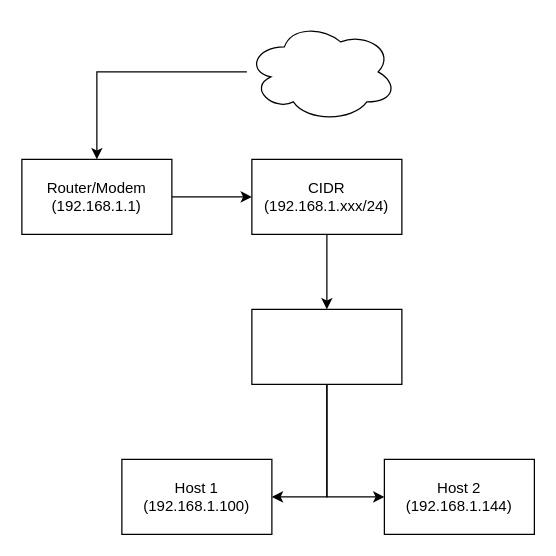
The diagram is 556 pixels wide and 556 high, and some of its shapes have lost their labels. The centre of each missing label's shape, as x and y in pixels:
"Internet" goes at pixel 321 71.
"Subnet (192.168.1.xxx)" goes at pixel 326 346.
